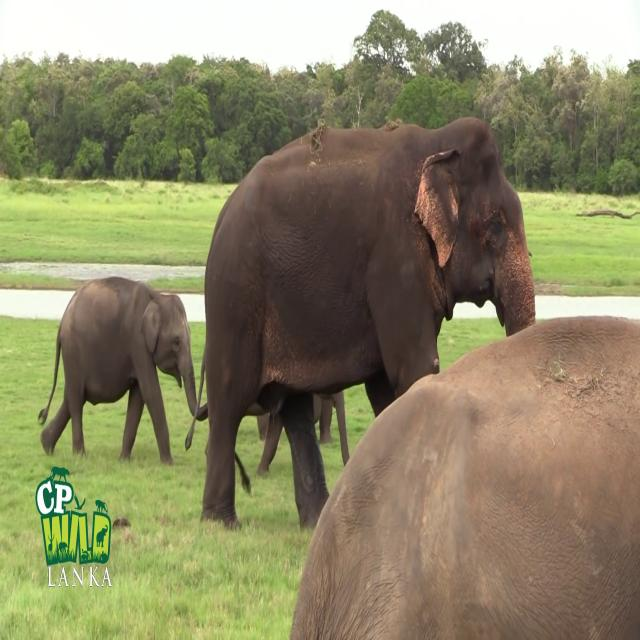Elephant: (184, 114, 536, 533), (289, 314, 639, 639), (38, 275, 206, 466)
